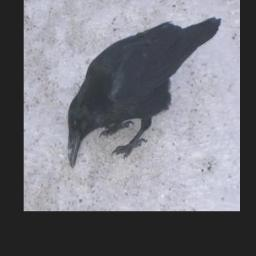Crow: (68, 16, 224, 167)
